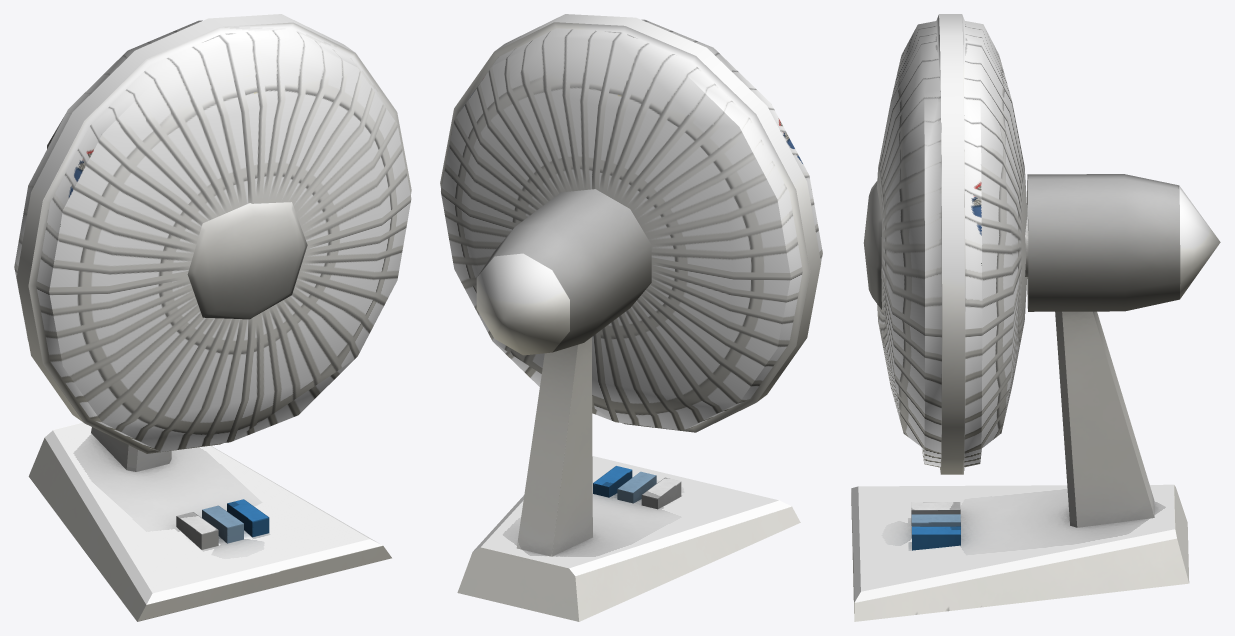
Rendered from fan.fbx.
3 renders of one model, left to right at view 1: azimuth 30°, elevation 25°; view 2: azimuth 150°, elevation 25°; view 3: azimuth 270°, elevation 25°, orthographic. The views are drawn at different scales.
Visible parts, largest first — view 1: fanTop, fanBase; view 2: fanTop, fanBase; view 3: fanTop, fanBase.
Boxes of the visible parts, x1,y1,x2,y2 form: fanTop: (14, 14, 411, 453); fanBase: (28, 422, 391, 621); fanTop: (440, 14, 822, 432); fanBase: (457, 337, 800, 621); fanTop: (863, 14, 1220, 474); fanBase: (851, 311, 1189, 621).
Size of the model in its own units: 13.45 by 17.69 by 11.3.
